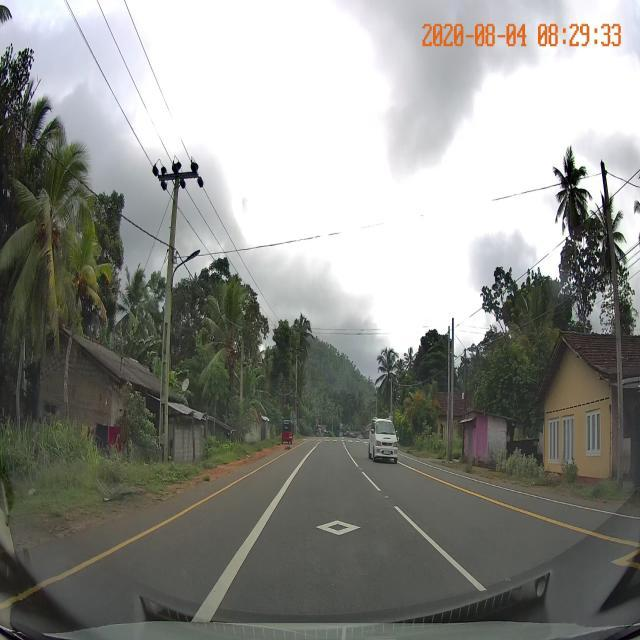diamond: (244, 518, 427, 538)
